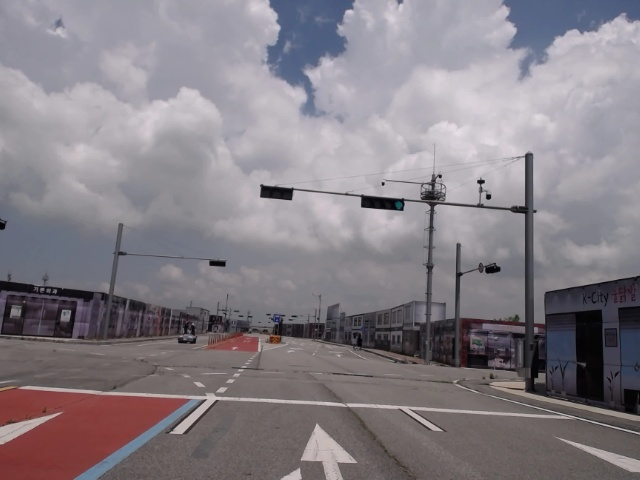straight_green_4: (363, 195, 407, 211)
